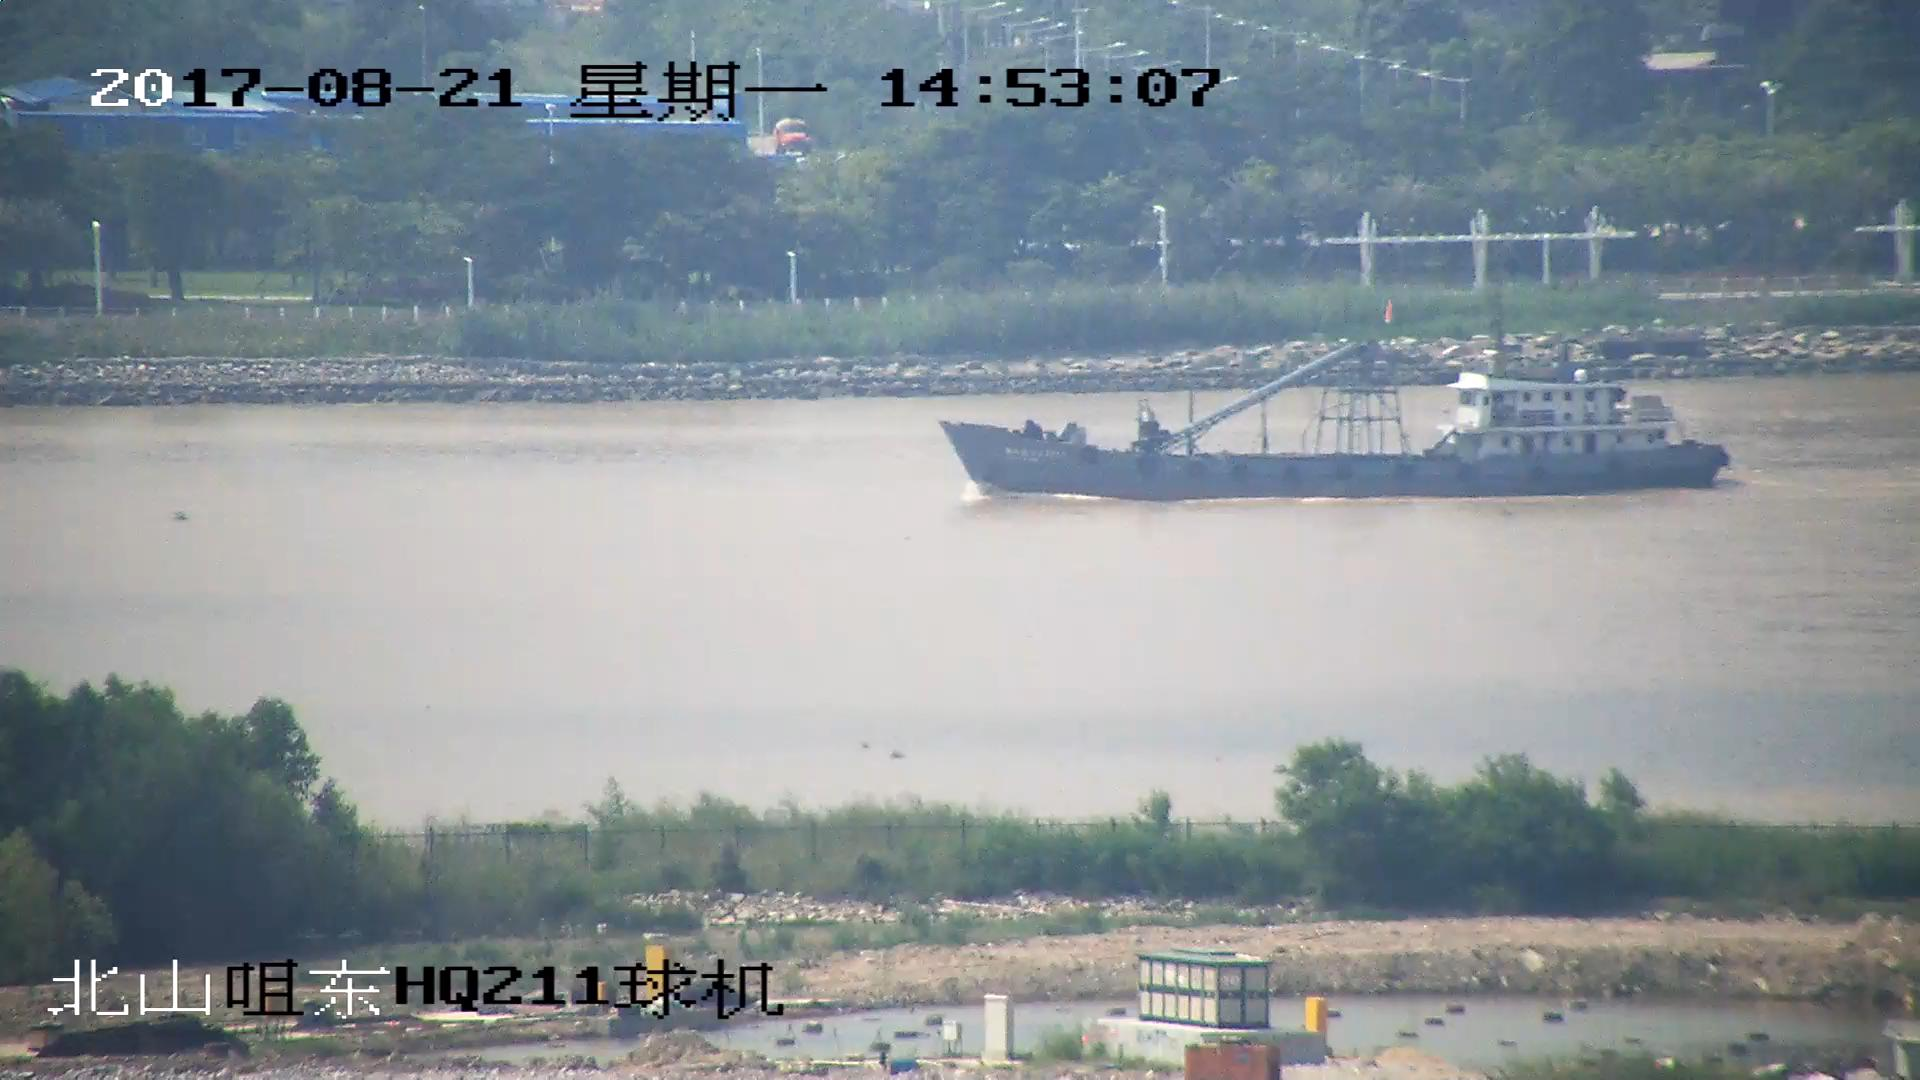fishing boat: (932, 305, 1735, 496)
